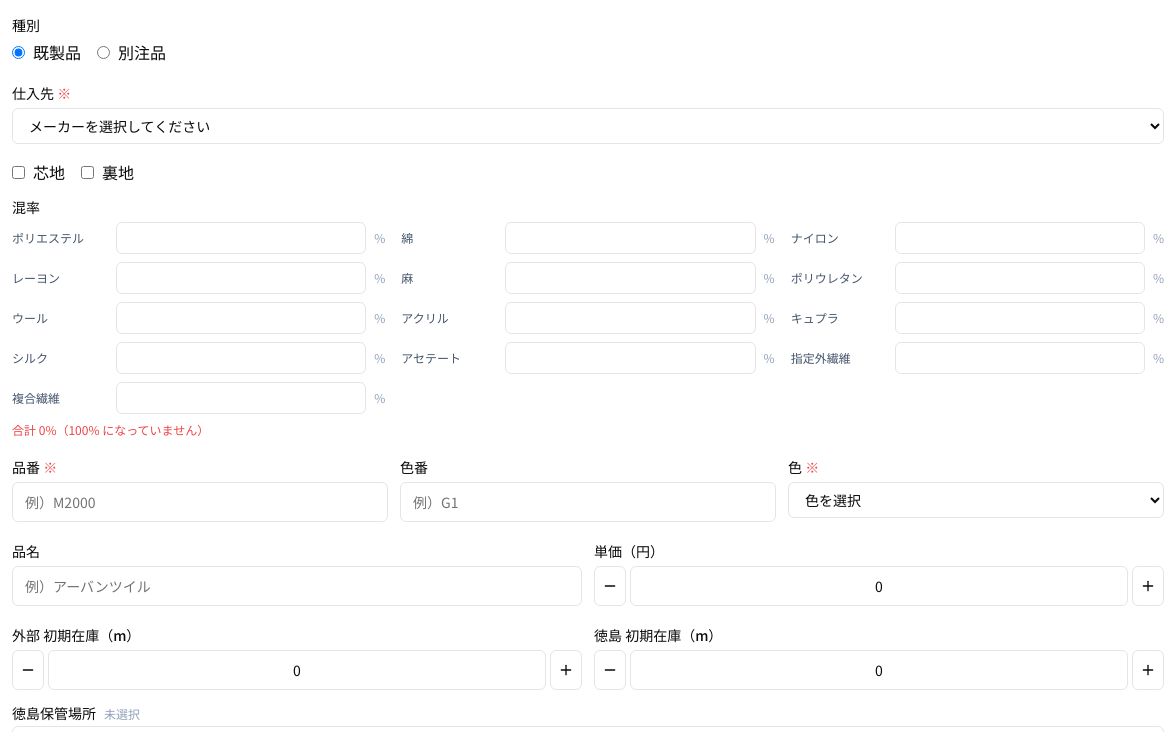
Test: ProductForm 混率 › 小数を含む混率の合計を表示する
This screenshot has width=1176, height=732.
Type "33.5" into the field labelled "ポリエステル" at (241, 238), box [116,222,366,254]
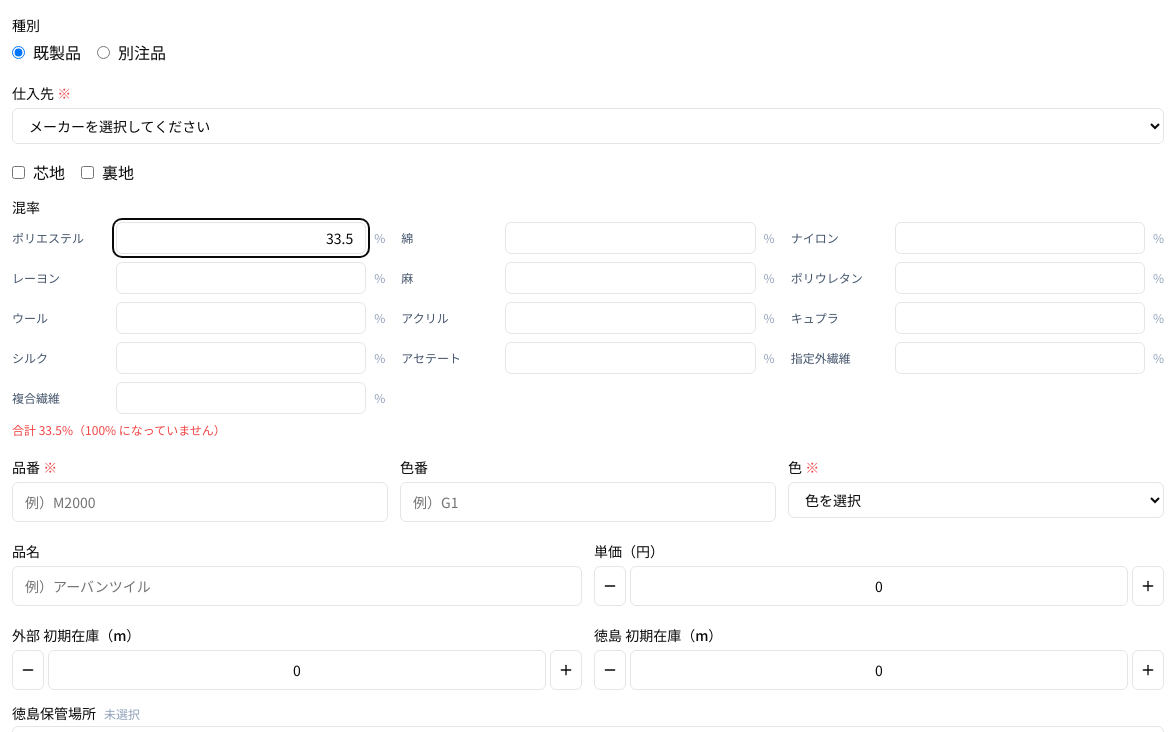
Type "66.5" into the field labelled "綿" at (630, 238), box [505,222,756,254]
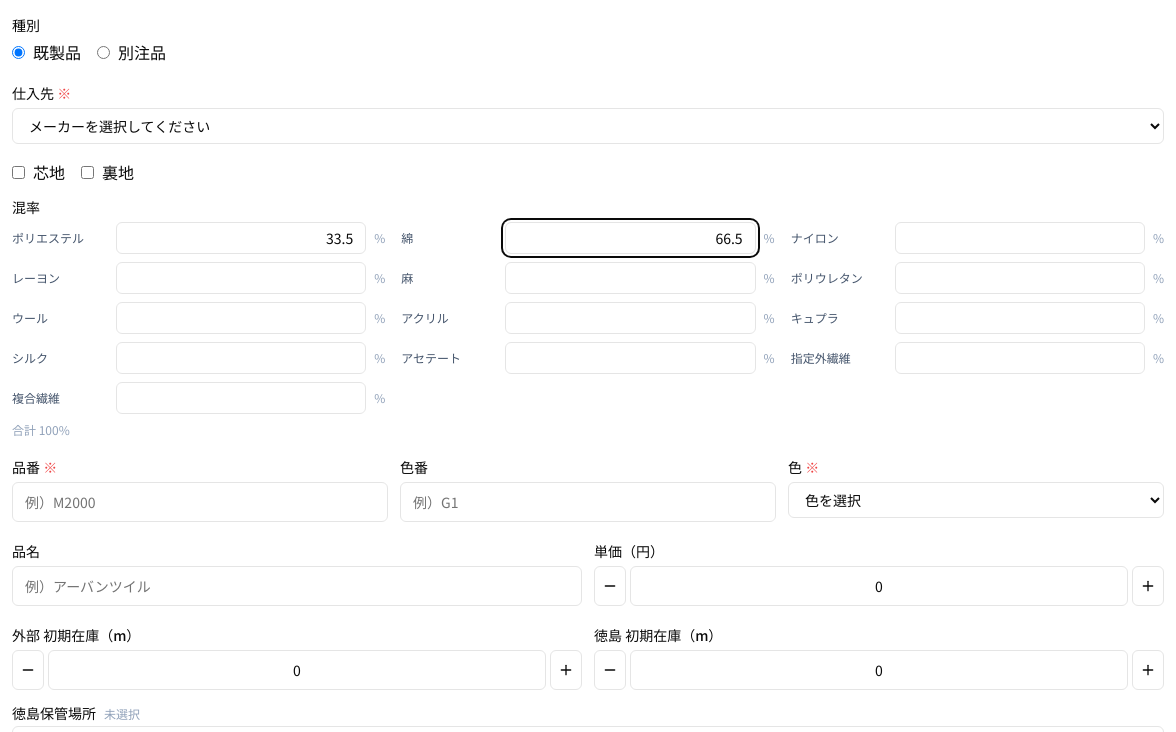
Now the text "合計 100%" is shown, box [12,421,70,438]
